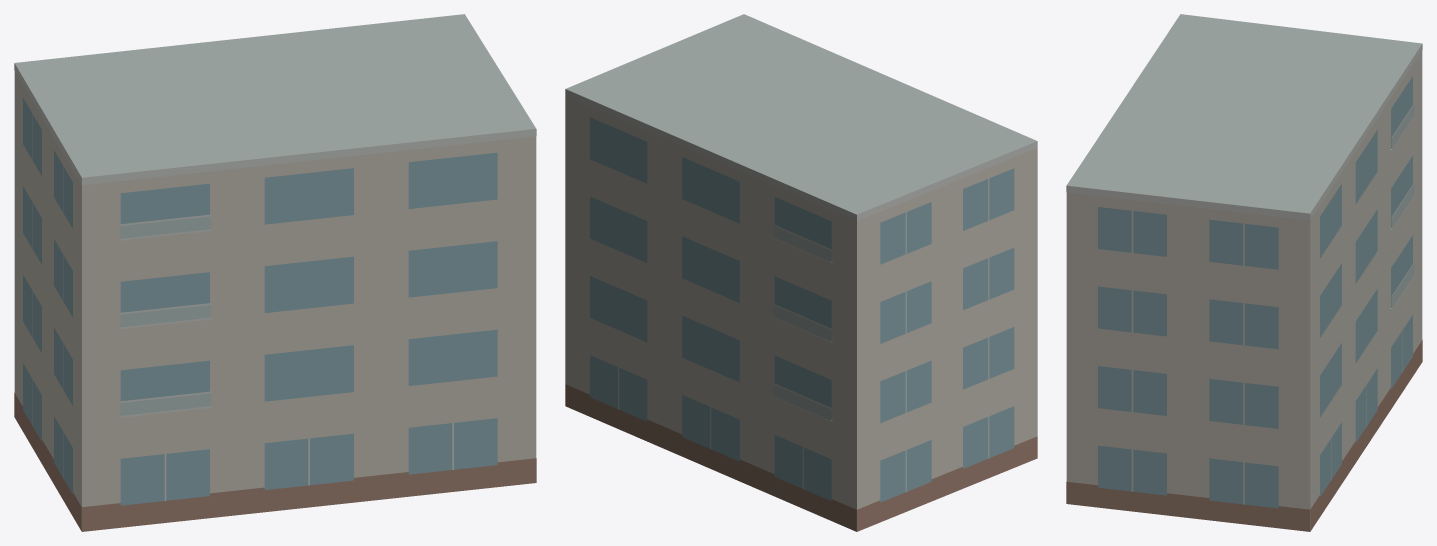
File: survey-upis-33001325.glb
The picture shows the model from 3 angles, left to right: view 1: azimuth 30°, elevation 25°; view 2: azimuth 150°, elevation 25°; view 3: azimuth 270°, elevation 25°; orthographic projection. The views are drawn at different scales.
Parts seen in each view (by area): view 1: survey-upis-33001325.tmp; view 2: survey-upis-33001325.tmp; view 3: survey-upis-33001325.tmp.
Part boxes in pixels (x1,y1,x2,y2): survey-upis-33001325.tmp: [14, 14, 536, 531]; survey-upis-33001325.tmp: [565, 14, 1037, 531]; survey-upis-33001325.tmp: [1066, 14, 1422, 531].
Bounding box in the file's own units: 15.61 × 11.6 × 11.77.
